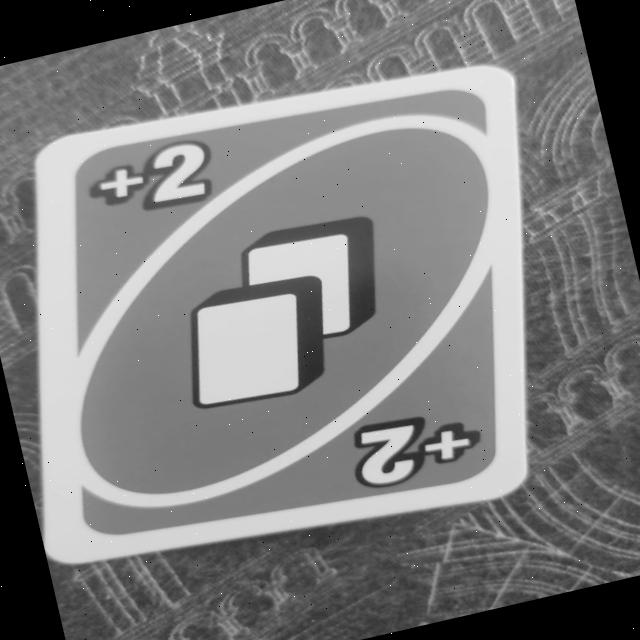card_2-: (0, 32, 606, 599)
